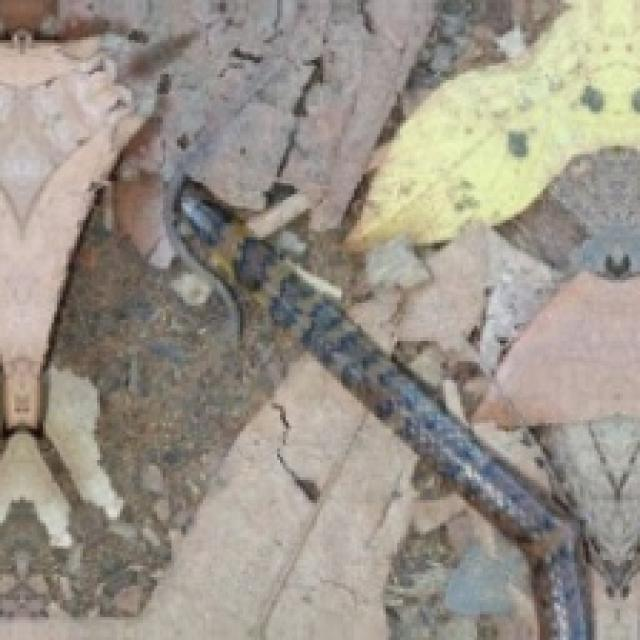luzon dwarf snake: (277, 280, 586, 637), (0, 37, 177, 614), (140, 357, 411, 637)
